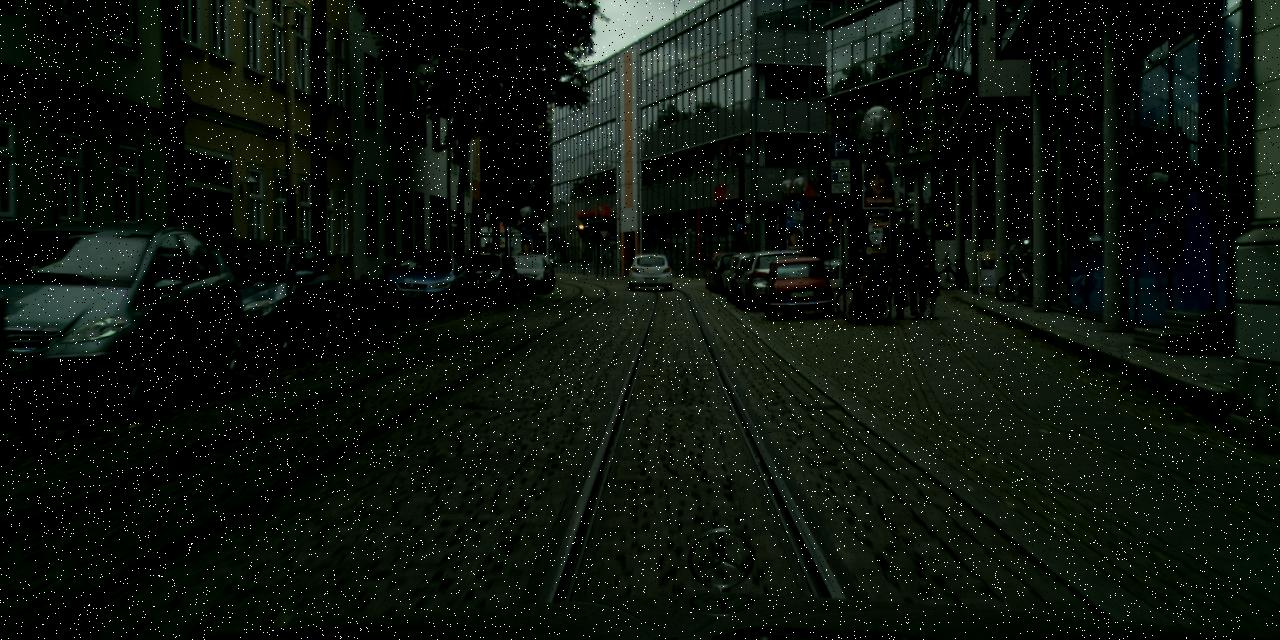ped: (898, 228, 934, 318), (843, 236, 875, 316), (868, 250, 894, 316), (918, 258, 942, 318), (889, 262, 912, 318)
